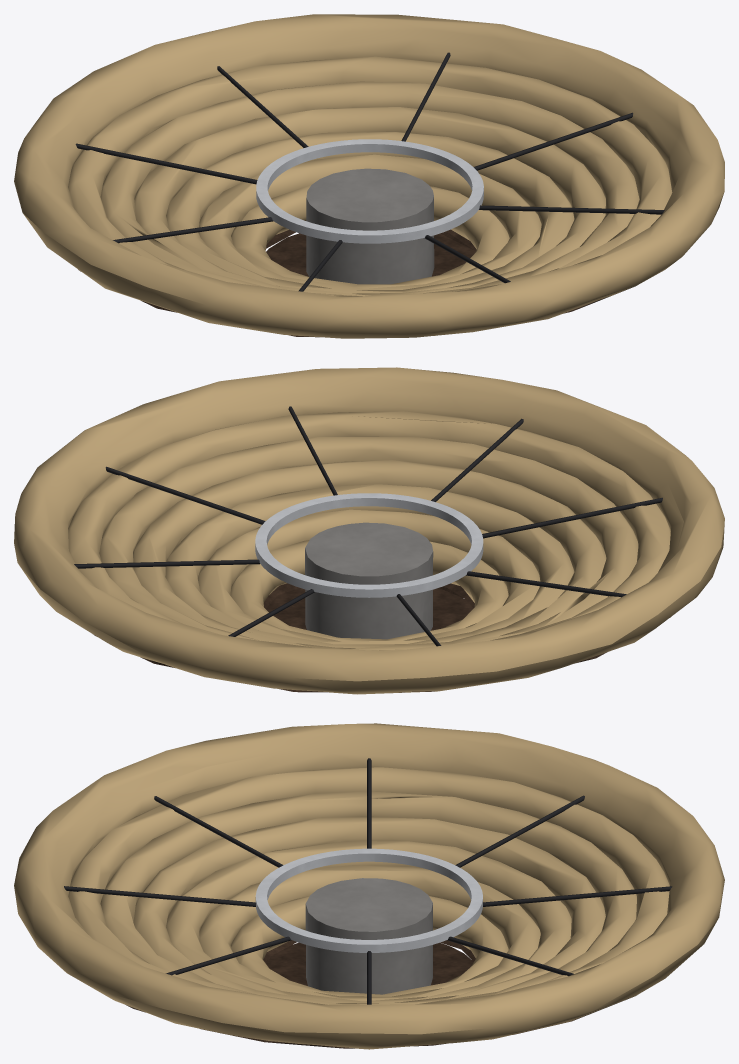
The model's file is stage06_hiad_l_deployed.glb.
3 views of the same model, one above another, from view 1: azimuth 30°, elevation 25°; view 2: azimuth 150°, elevation 25°; view 3: azimuth 270°, elevation 25° (orthographic).
Visible parts, largest first — view 1: tori, centre_body, mount_ring, nose_cap, strap_7, strap_3, strap_0, strap_4, flexible_tps, strap_2; view 2: tori, centre_body, mount_ring, nose_cap, strap_1, strap_5, strap_0, flexible_tps, strap_4, strap_6; view 3: tori, centre_body, mount_ring, nose_cap, strap_6, strap_2, flexible_tps, strap_5, strap_3, strap_1, strap_7.
Part boxes in pixels (bbox=[...]): tori: bbox=[14, 14, 724, 338]; centre_body: bbox=[306, 168, 434, 284]; mount_ring: bbox=[256, 139, 483, 243]; nose_cap: bbox=[266, 233, 474, 276]; strap_7: bbox=[479, 205, 664, 214]; strap_3: bbox=[75, 143, 257, 184]; strap_0: bbox=[473, 112, 633, 170]; strap_4: bbox=[113, 217, 273, 243]; flexible_tps: bbox=[78, 229, 635, 337]; strap_2: bbox=[217, 66, 308, 147]; tori: bbox=[14, 367, 724, 694]; centre_body: bbox=[305, 522, 433, 639]; mount_ring: bbox=[255, 493, 483, 597]; nose_cap: bbox=[266, 588, 473, 630]; strap_1: bbox=[74, 559, 259, 568]; strap_5: bbox=[482, 497, 662, 538]; strap_0: bbox=[105, 466, 265, 524]; flexible_tps: bbox=[94, 583, 670, 692]; strap_4: bbox=[466, 571, 626, 597]; strap_6: bbox=[431, 418, 523, 501]; tori: bbox=[14, 723, 724, 1049]; centre_body: bbox=[305, 878, 432, 994]; mount_ring: bbox=[255, 848, 482, 952]; nose_cap: bbox=[266, 942, 473, 985]; strap_6: bbox=[64, 886, 255, 906]; strap_2: bbox=[483, 886, 672, 906]; flexible_tps: bbox=[126, 940, 632, 1048]; strap_5: bbox=[154, 796, 283, 867]; strap_3: bbox=[455, 795, 584, 867]; strap_1: bbox=[447, 936, 573, 975]; strap_7: bbox=[166, 936, 291, 975].
Size of the model in its own units: 11.69 by 2.59 by 11.73.
Materials: 5 (3 with a texture image).
